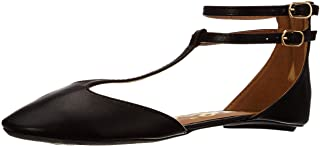shoes: (1, 1, 320, 144)
